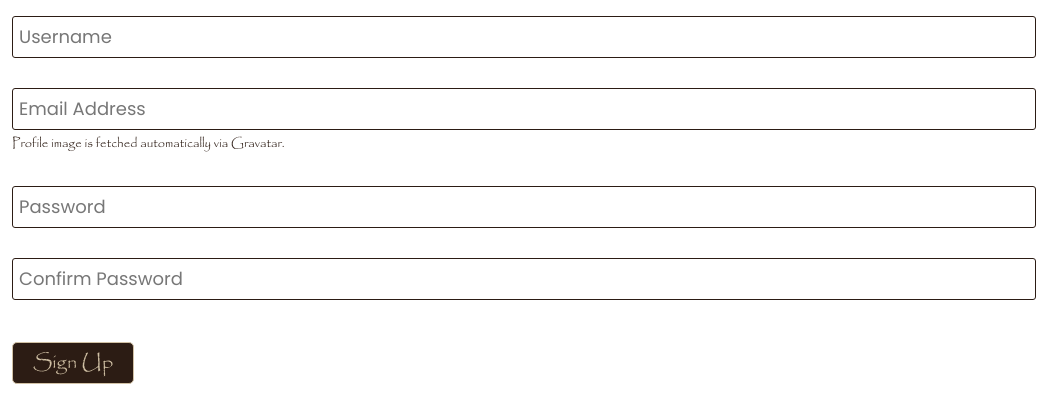
Register Form › shows validation error when password is invalid
The image size is (1048, 401).
In the password field labelled "Password": (524, 207) [12,186,1036,228], type "Password"
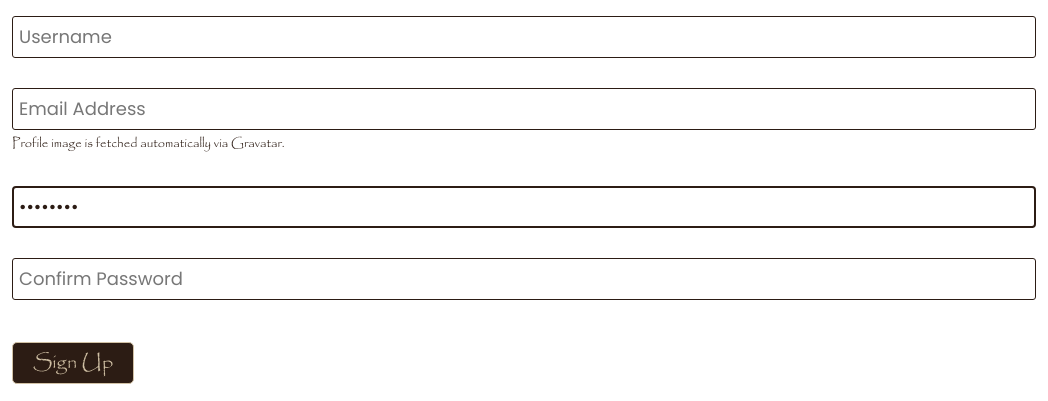
Click the button "Sign Up": (73, 363) [12,342,134,384]
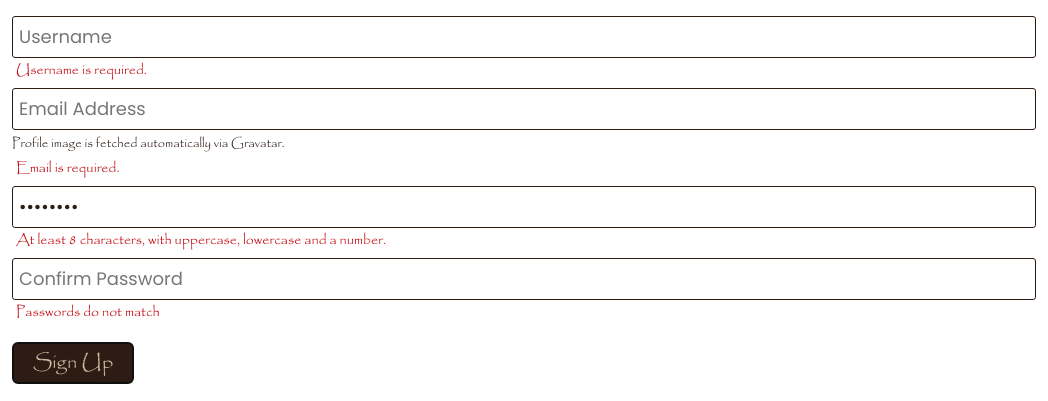
Now the text "At least 8 characters, with uppercase, lowercase and a number." is shown, box [16,229,386,251]
